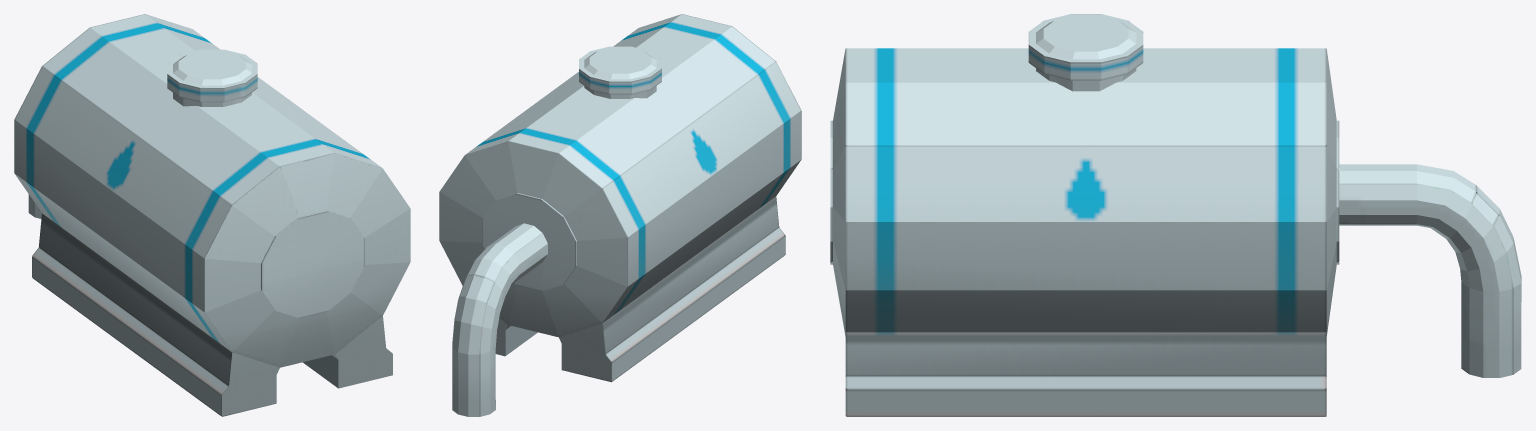
File: Water Tank(final).fbx
3 views of the same model, side by side, from view 1: azimuth 30°, elevation 25°; view 2: azimuth 150°, elevation 25°; view 3: azimuth 270°, elevation 25° (orthographic). The views are drawn at different scales.
Parts seen in each view (by area): view 1: cylinder, cylinder_1; view 2: cylinder, cylinder_2, cylinder_1; view 3: cylinder, cylinder_2, cylinder_1.
Boxes of the visible parts, left/top/right/bottom form: cylinder: left=14, top=14, right=410, bottom=416; cylinder_1: left=167, top=49, right=257, bottom=106; cylinder: left=439, top=14, right=801, bottom=382; cylinder_2: left=452, top=223, right=547, bottom=416; cylinder_1: left=579, top=46, right=661, bottom=98; cylinder: left=830, top=48, right=1339, bottom=416; cylinder_2: left=1337, top=164, right=1521, bottom=377; cylinder_1: left=1028, top=14, right=1143, bottom=91.
Size of the model in its own units: 188 by 228 by 431.
1 material, 1 textured.
